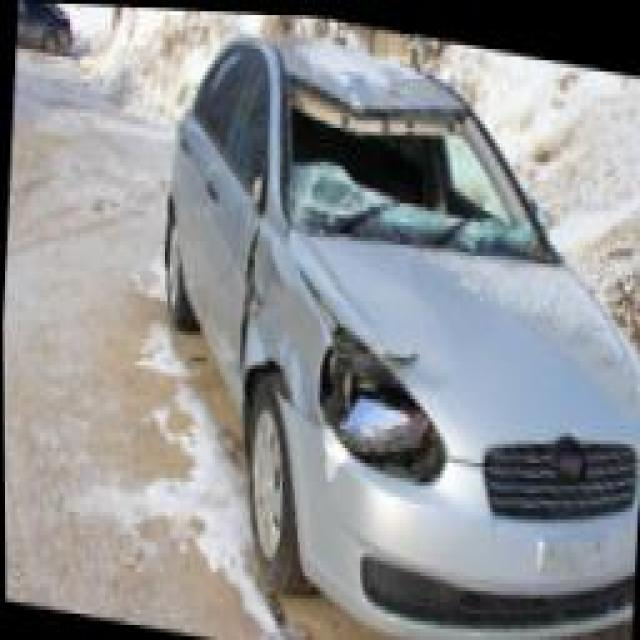Fender: (240, 241, 334, 422)
Light: (315, 331, 439, 472)
Windshield: (278, 79, 526, 248)
